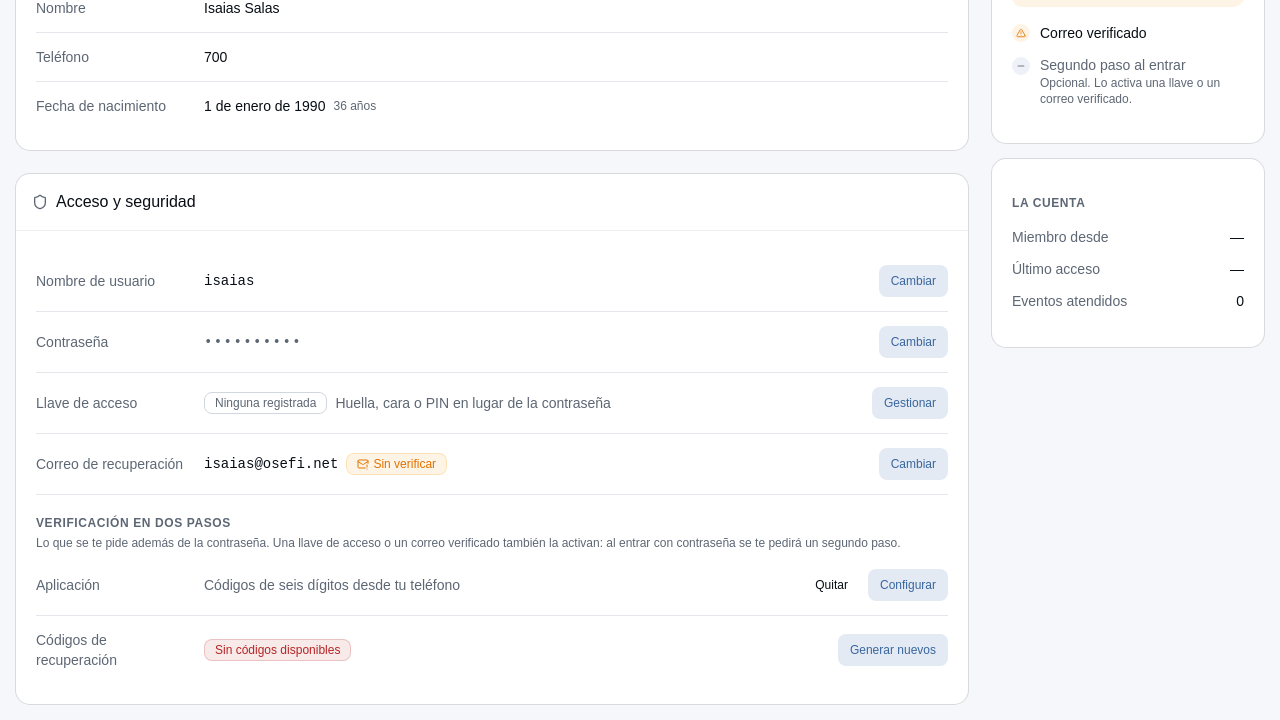
it: recovery email — the three states › pre-fills the address box with whatever is already on file, unverified or not
The width and height of the screenshot is (1280, 720).
(page scrolled)
Click the button "Cambiar" in the row of "Sin verificar".
click(913, 464)  # box [879, 448, 948, 480]
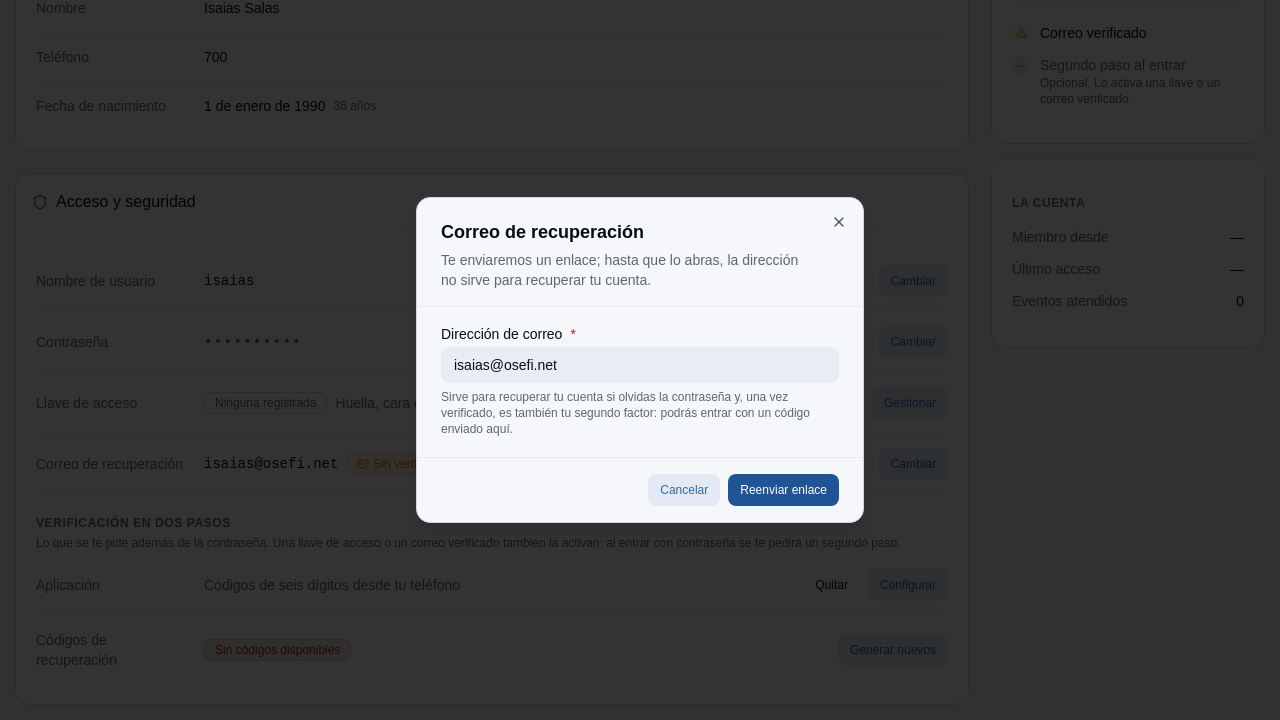
Result: the field labelled "Dirección de correo *" holds "isaias@osefi.net" at [441, 347, 839, 383]
